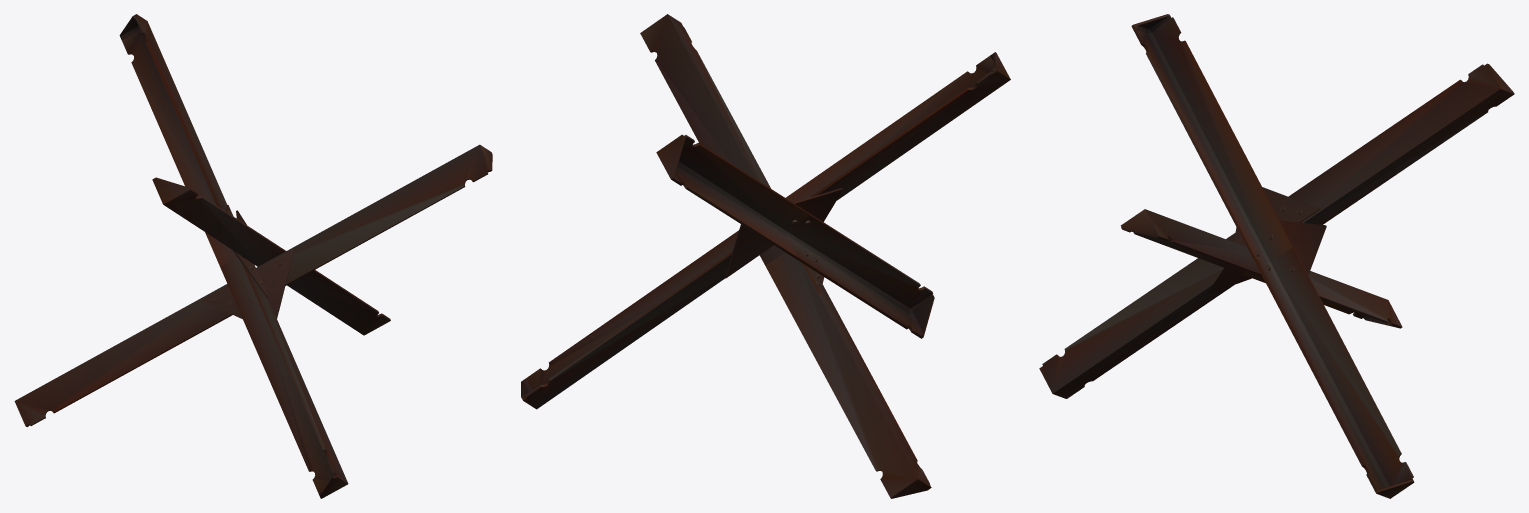
The model's file is DefHedgehog.glb.
The picture shows the model from 3 angles, left to right: view 1: azimuth 30°, elevation 25°; view 2: azimuth 150°, elevation 25°; view 3: azimuth 270°, elevation 25°; orthographic projection. The views are drawn at different scales.
Parts seen in each view (by area): view 1: Hedgehog_Hedgehog_0; view 2: Hedgehog_Hedgehog_0; view 3: Hedgehog_Hedgehog_0.
Part boxes in pixels (x1,y1,x2,y2): Hedgehog_Hedgehog_0: (14, 14, 492, 498); Hedgehog_Hedgehog_0: (521, 14, 1010, 498); Hedgehog_Hedgehog_0: (1039, 14, 1514, 498).
Size of the model in its own units: 0.7577 by 0.6476 by 0.8096.
